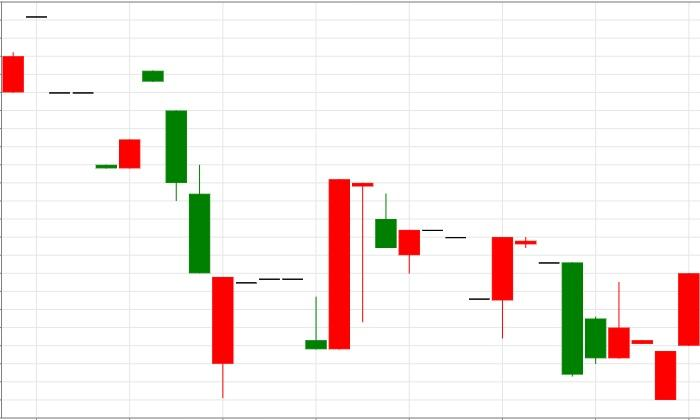bullish_engulfing_rise: (329, 179, 514, 350), (26, 15, 141, 170)
